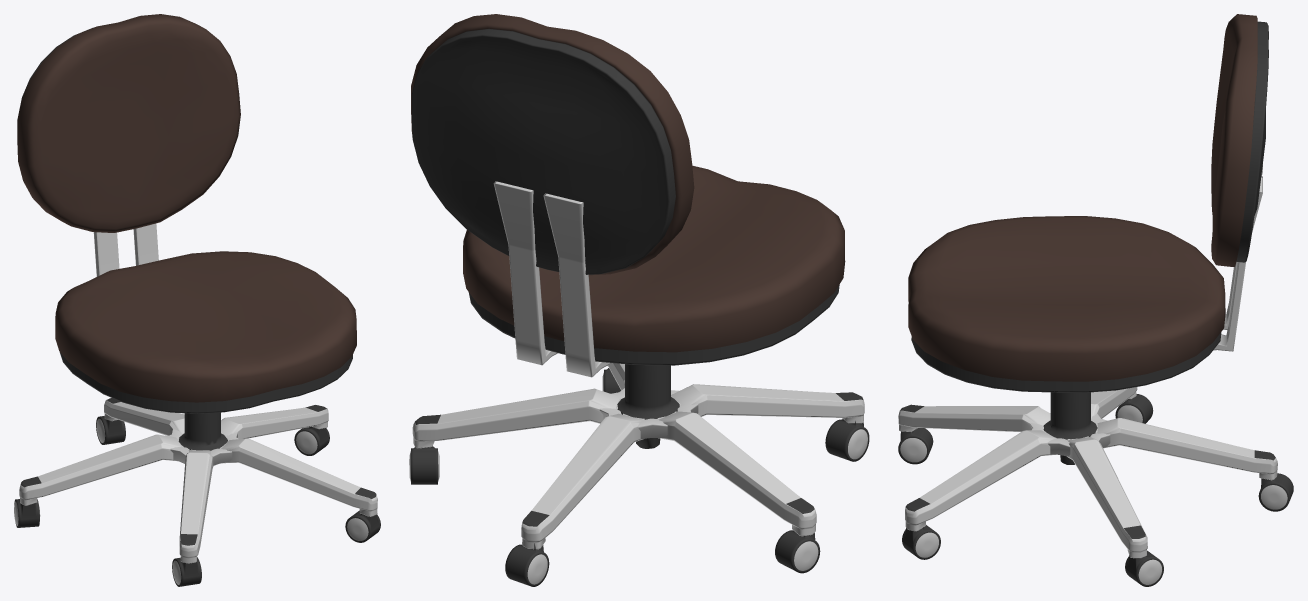
Rendered from OfficeChair1.fbx.
The picture shows the model from 3 angles, left to right: view 1: azimuth 30°, elevation 25°; view 2: azimuth 150°, elevation 25°; view 3: azimuth 270°, elevation 25°; orthographic projection. The views are drawn at different scales.
Parts seen in each view (by area): view 1: Cylinder.306; view 2: Cylinder.306; view 3: Cylinder.306.
Part boxes in pixels (x1,y1,x2,y2): Cylinder.306: [14, 14, 380, 586]; Cylinder.306: [409, 14, 869, 586]; Cylinder.306: [898, 14, 1293, 586].
Bounding box in the file's own units: 65.23 × 84.38 × 64.3.
